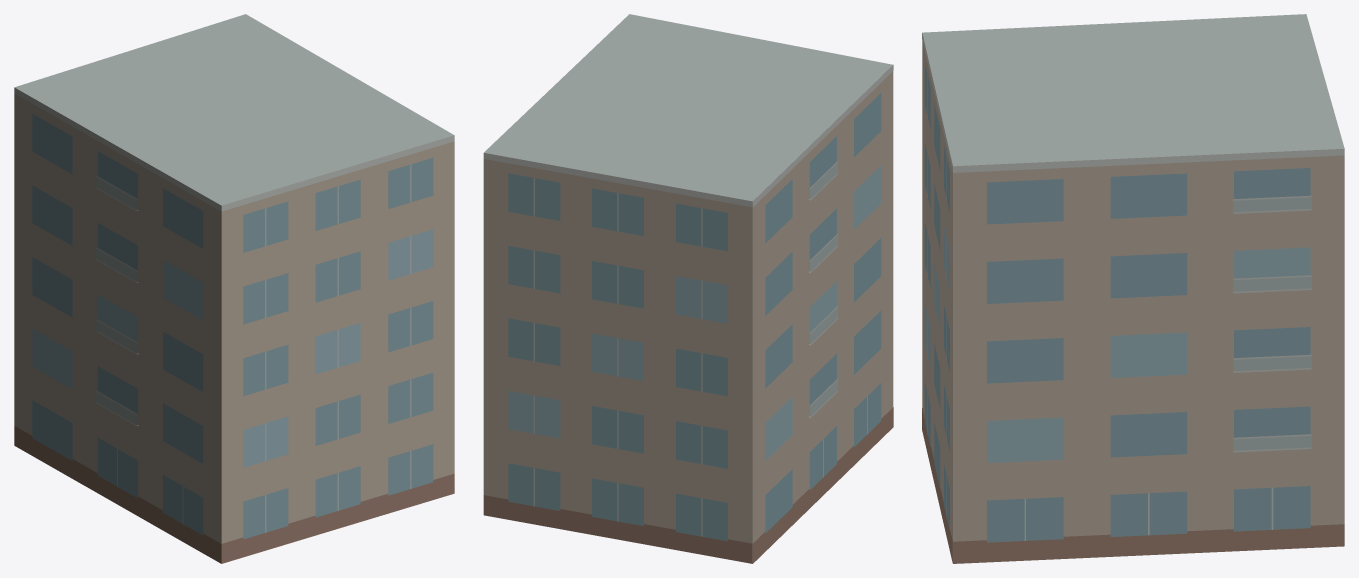
The model's file is survey-upis-32734314.glb.
The picture shows the model from 3 angles, left to right: view 1: azimuth 30°, elevation 25°; view 2: azimuth 150°, elevation 25°; view 3: azimuth 270°, elevation 25°; orthographic projection. The views are drawn at different scales.
Parts seen in each view (by area): view 1: survey-upis-32734314.tmp; view 2: survey-upis-32734314.tmp; view 3: survey-upis-32734314.tmp.
Boxes of the visible parts, left/top/right/bottom form: survey-upis-32734314.tmp: left=14, top=14, right=454, bottom=563; survey-upis-32734314.tmp: left=483, top=14, right=893, bottom=563; survey-upis-32734314.tmp: left=922, top=14, right=1344, bottom=563.
Bounding box in the file's own units: 12 × 14.6 × 14.07.
